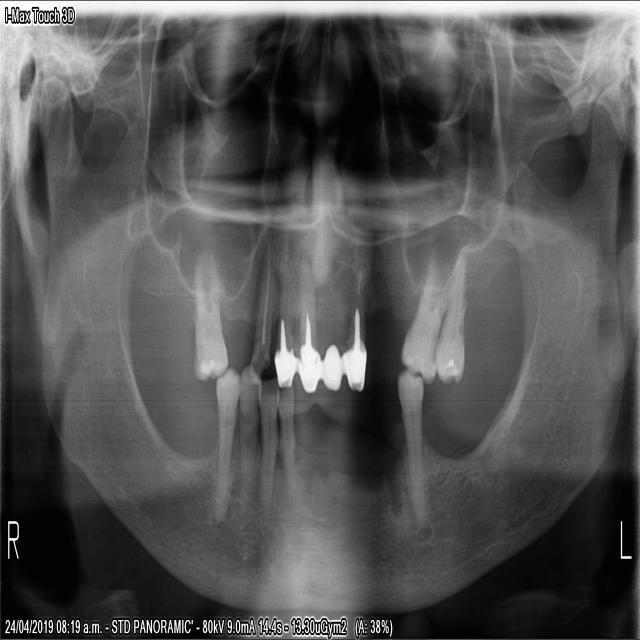LIU: (317, 258, 342, 396), (341, 265, 367, 394)
LMU: (434, 258, 468, 381)
LPMD: (393, 370, 426, 523)
LPMU: (398, 273, 451, 377)
RCD: (237, 361, 258, 512)
RCU: (246, 251, 277, 384)
RID: (277, 382, 304, 506), (254, 373, 278, 511)
RIU: (270, 252, 298, 393), (296, 258, 321, 403)
RPMD: (213, 362, 239, 519)
RPMU: (191, 243, 230, 380)
